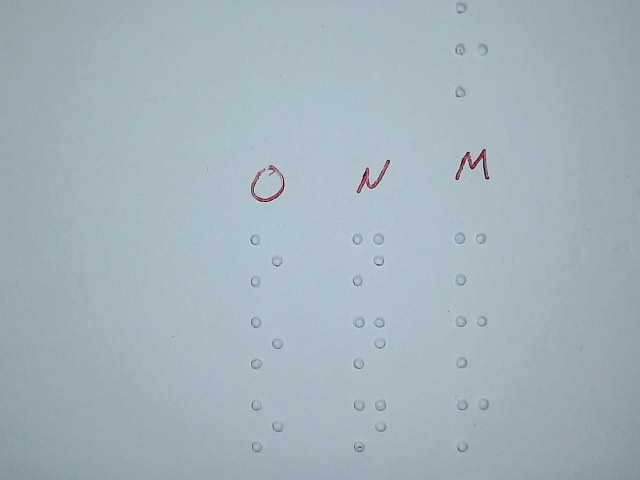M: (451, 228, 489, 287), (452, 311, 490, 370), (453, 395, 491, 454)
N: (349, 229, 387, 288), (351, 313, 389, 372), (351, 395, 389, 454)
O: (248, 231, 286, 290), (248, 313, 286, 372), (248, 395, 286, 454)
